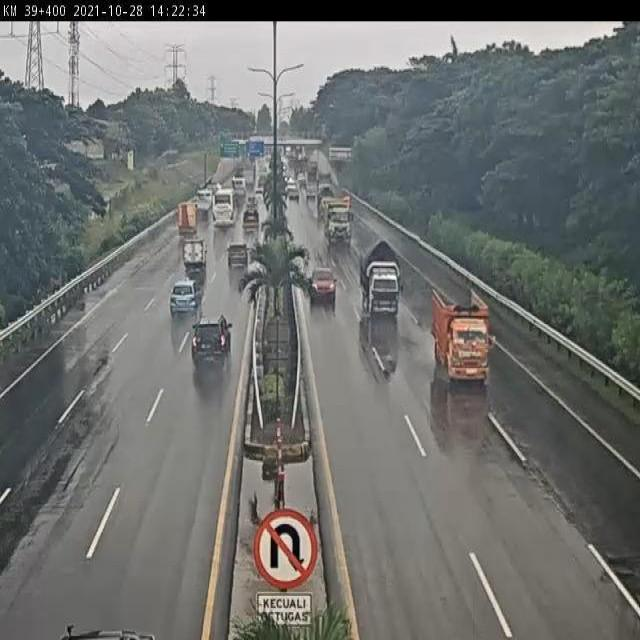bus-l-: (210, 184, 242, 231)
car: (170, 283, 201, 316), (227, 242, 248, 270)
truck-l-: (320, 196, 355, 249)
truck-s-: (430, 281, 495, 388), (359, 237, 404, 324), (176, 201, 198, 236)
